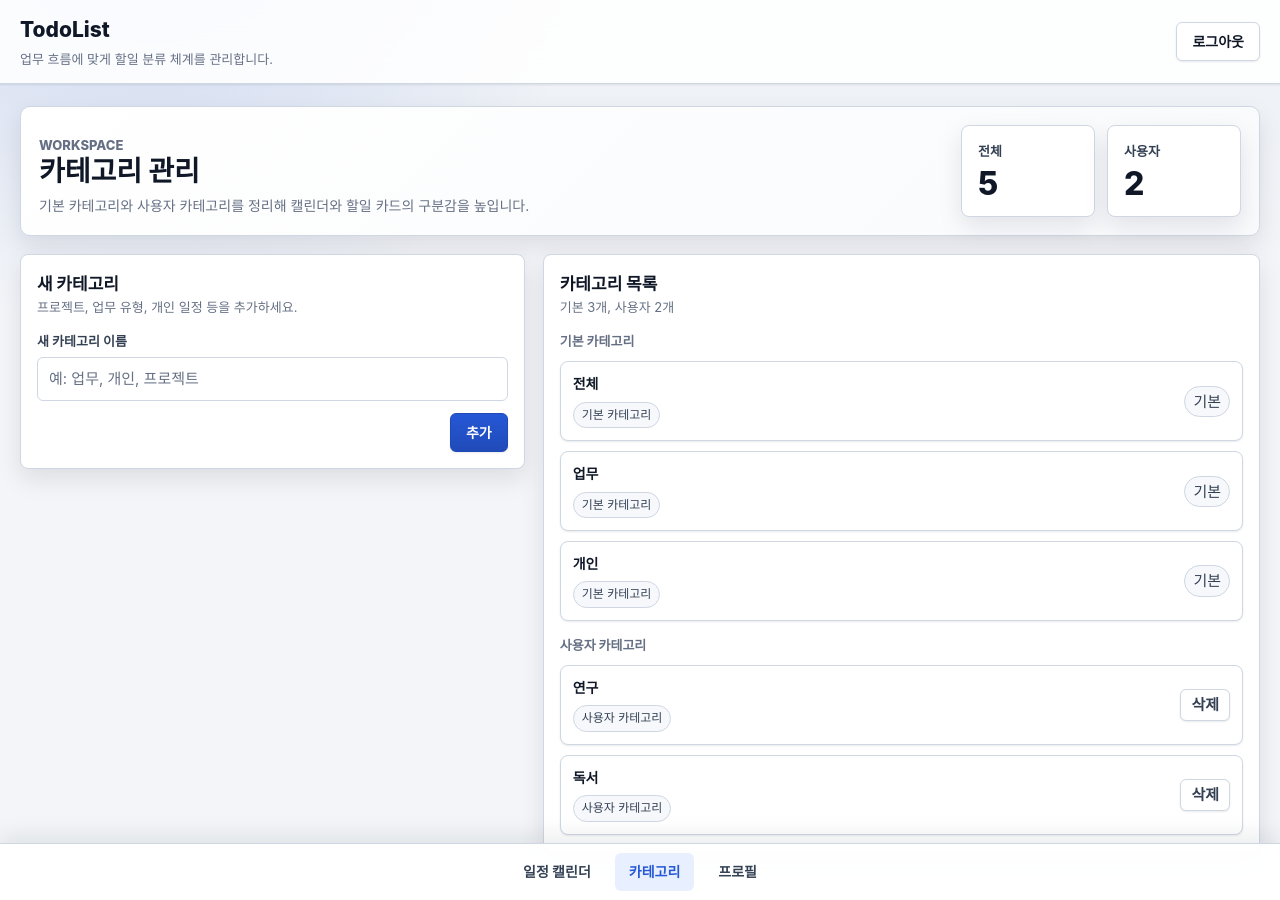
Test case: CategoryPage › 삭제 버튼 클릭 시 삭제 확인 모달이 표시된다
This screenshot has width=1280, height=900.
Step 1. Click the button with aria-label "삭제: 연구" → coordinates (1205, 705), box 1180,689 -> 1230,721
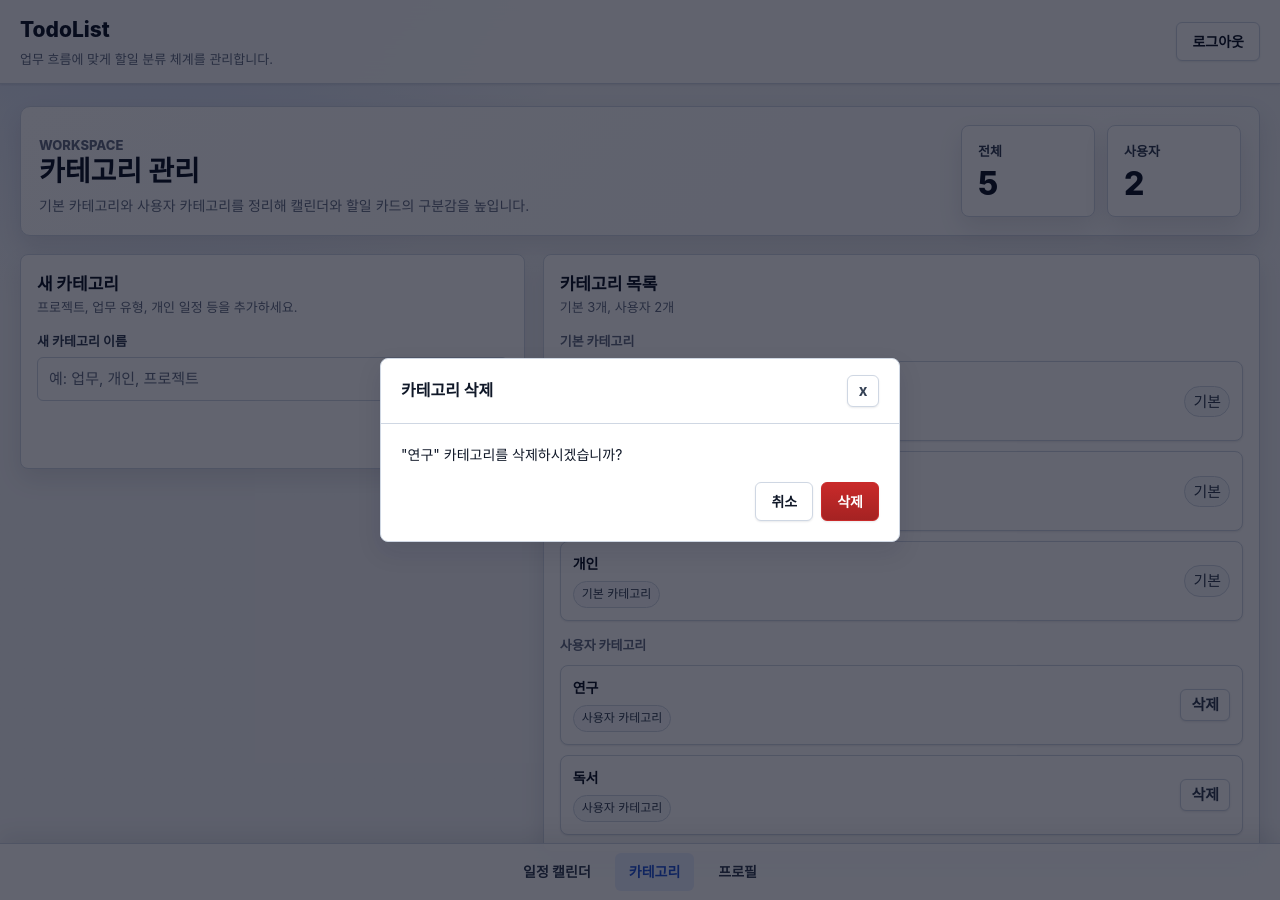
Check: the dialog "카테고리 삭제" is shown
Check: the text "\"연구\" 카테고리를 삭제하시겠습니까?" is shown, box 401,446 -> 622,463
